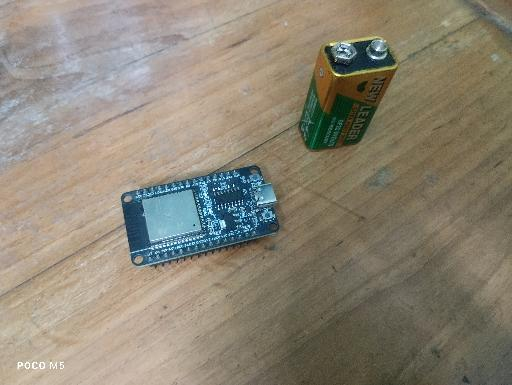Battery: (297, 36, 399, 153)
Esp32: (120, 164, 280, 271)
